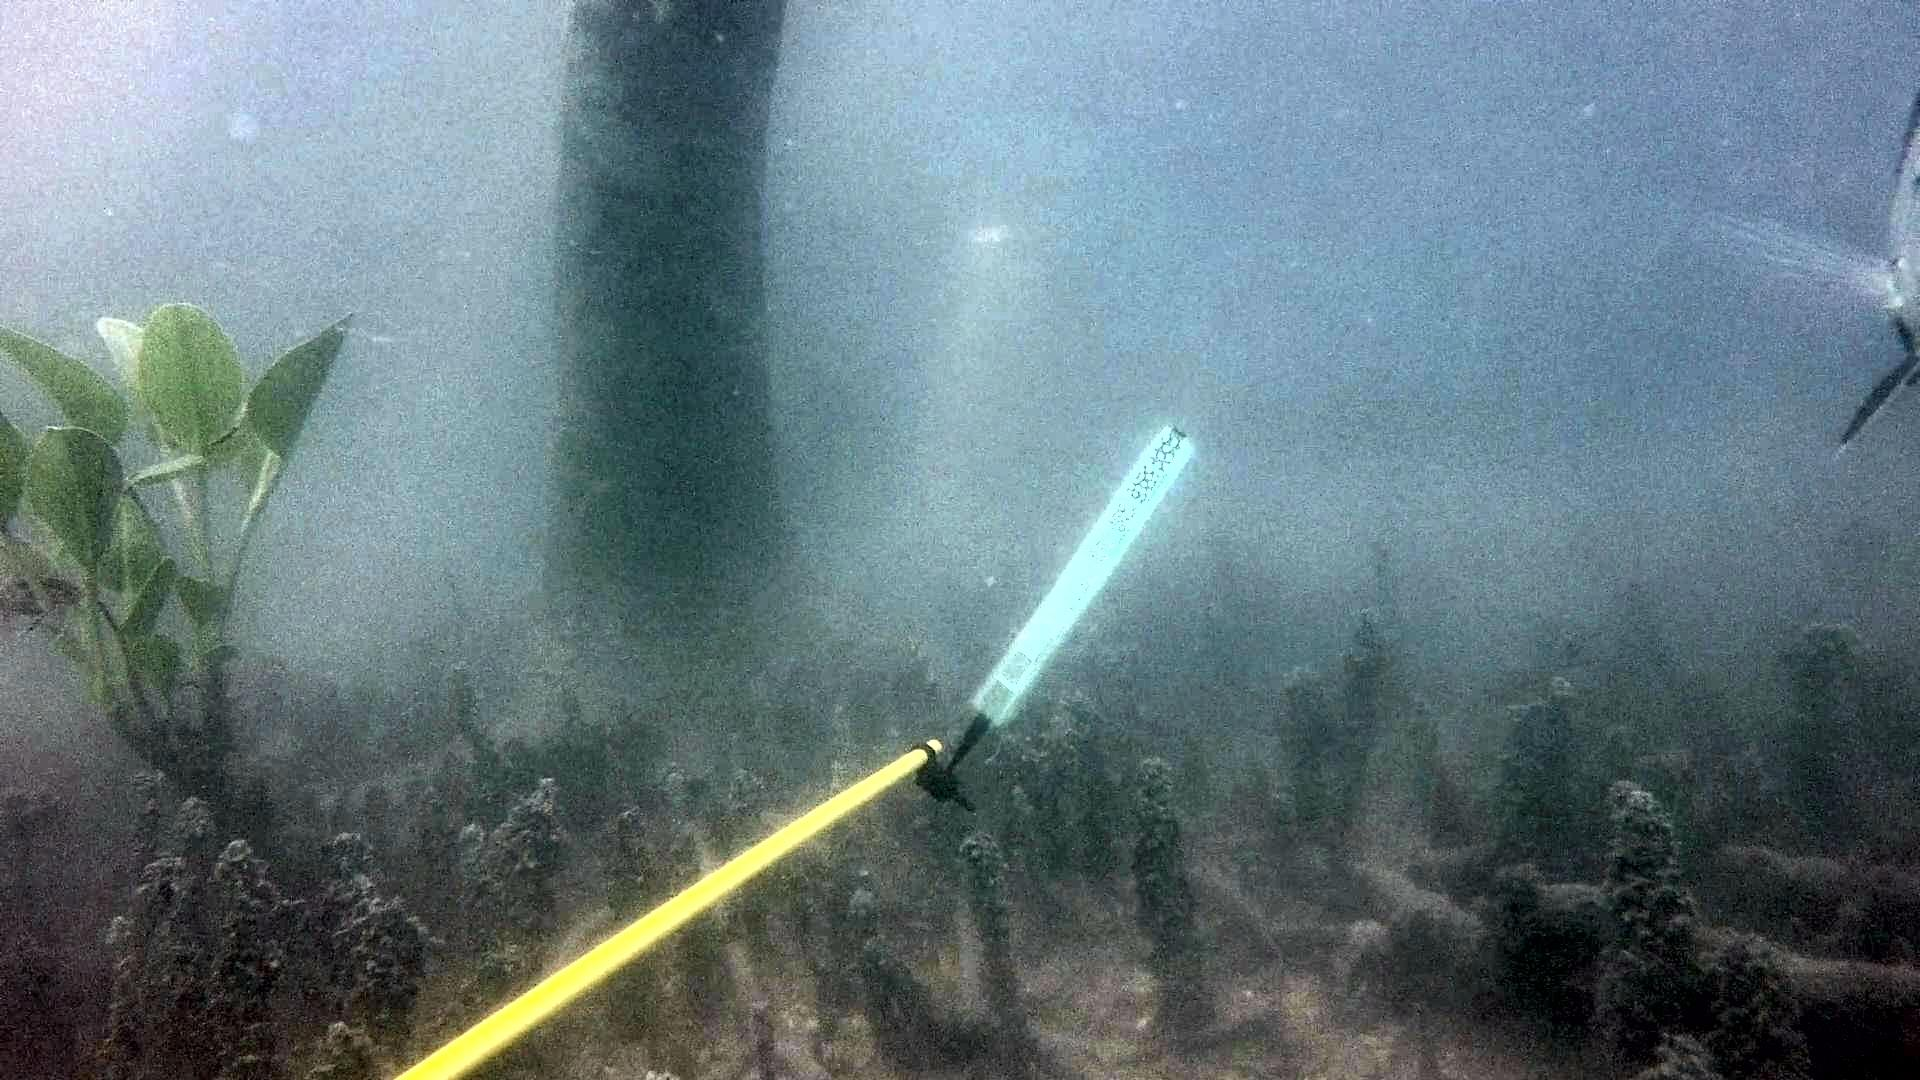acanthopagrus palmaris: (1711, 71, 1920, 481)
